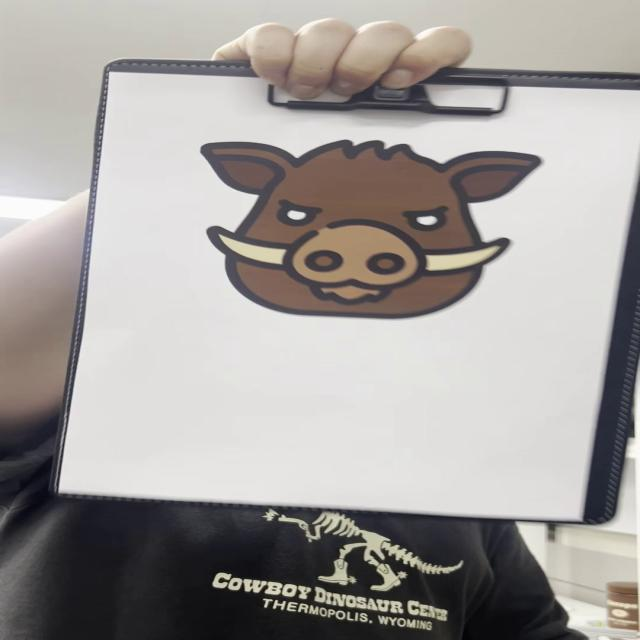animal: (198, 138, 545, 323)
